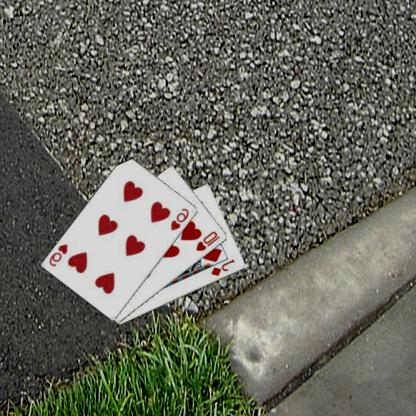10H: (195, 229, 223, 252)
6H: (49, 241, 71, 268), (170, 206, 192, 232)
JD: (210, 256, 238, 277)
